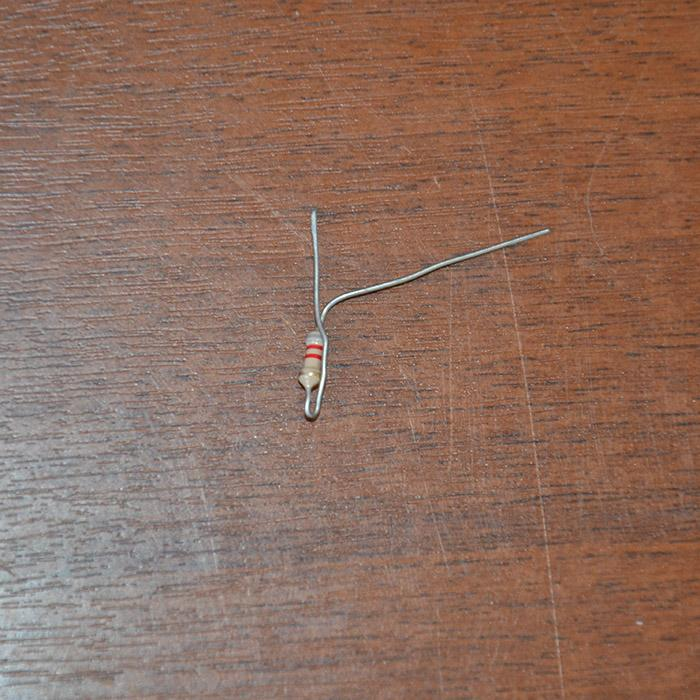resistor: (298, 332, 324, 391)
